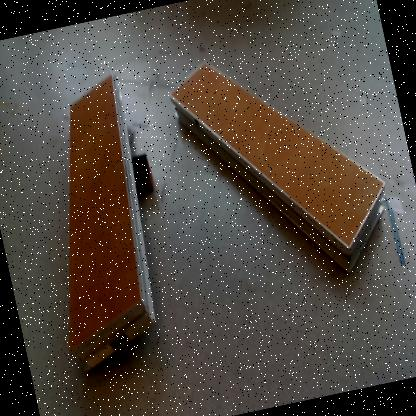Stairs: (169, 62, 387, 272), (71, 73, 158, 377)
